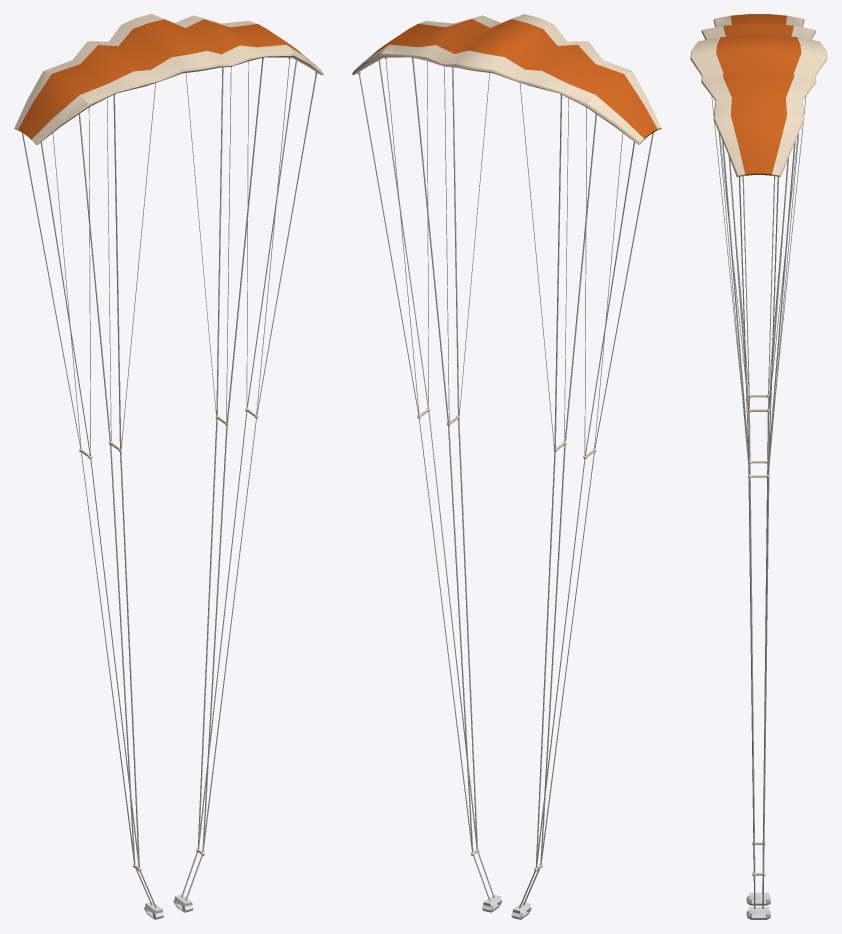
Rendered from parachutex4_-_.fbx.
3 renders of one model, left to right at view 1: azimuth 30°, elevation 25°; view 2: azimuth 150°, elevation 25°; view 3: azimuth 270°, elevation 25°, orthographic.
Visible parts, largest first — view 1: polySurface96, parasut; view 2: polySurface96, parasut; view 3: parasut, polySurface96.
Boxes of the visible parts, left/top/right/bottom form: polySurface96: left=22, top=57, right=317, bottom=919; parasut: left=14, top=14, right=323, bottom=145; polySurface96: left=358, top=57, right=653, bottom=919; parasut: left=352, top=14, right=661, bottom=144; parasut: left=690, top=14, right=827, bottom=177; polySurface96: left=711, top=96, right=806, bottom=919.
Size of the model in its own units: 11.27 by 32.76 by 4.7.
